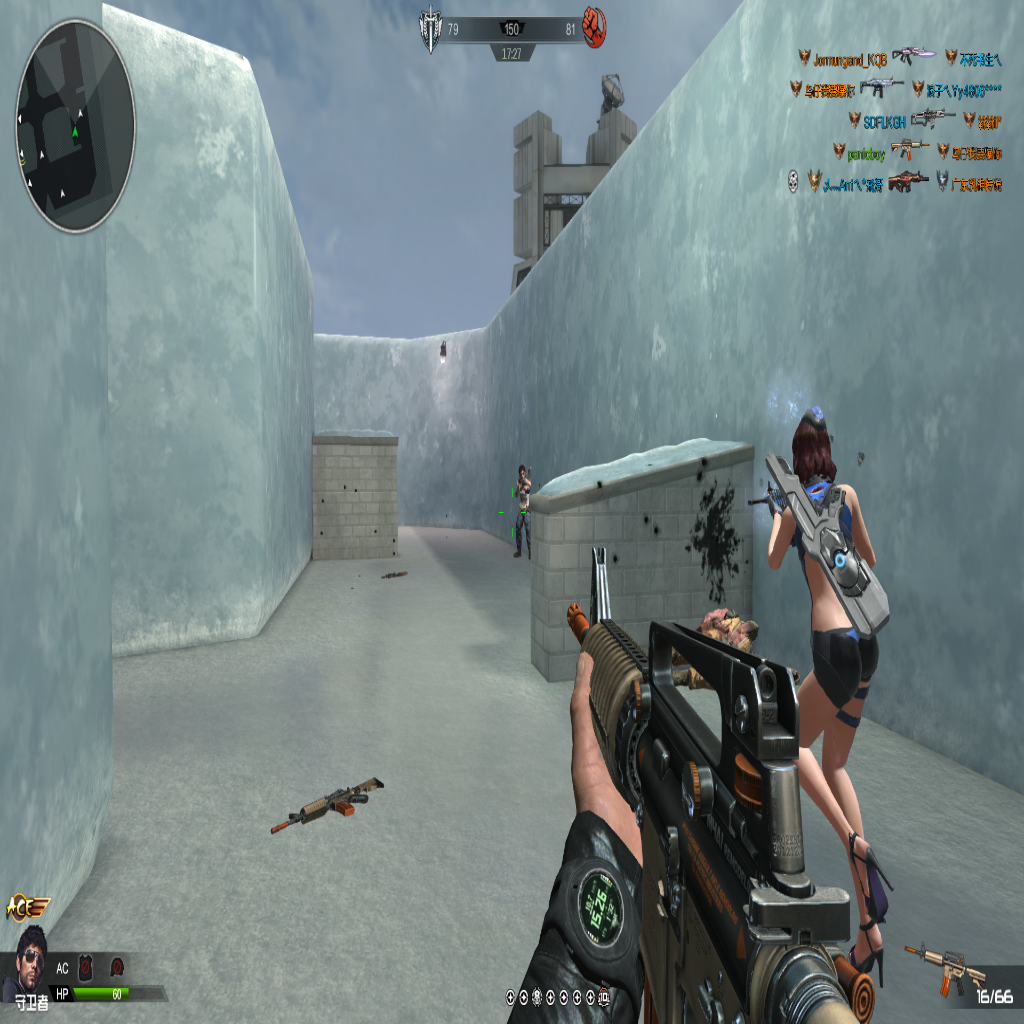ct: (763, 410, 887, 918)
tt: (512, 465, 532, 558)
